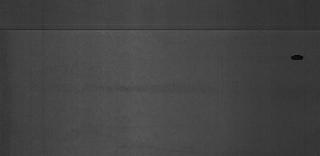punching hole: (289, 52, 307, 62)
welding line: (2, 25, 320, 36)
